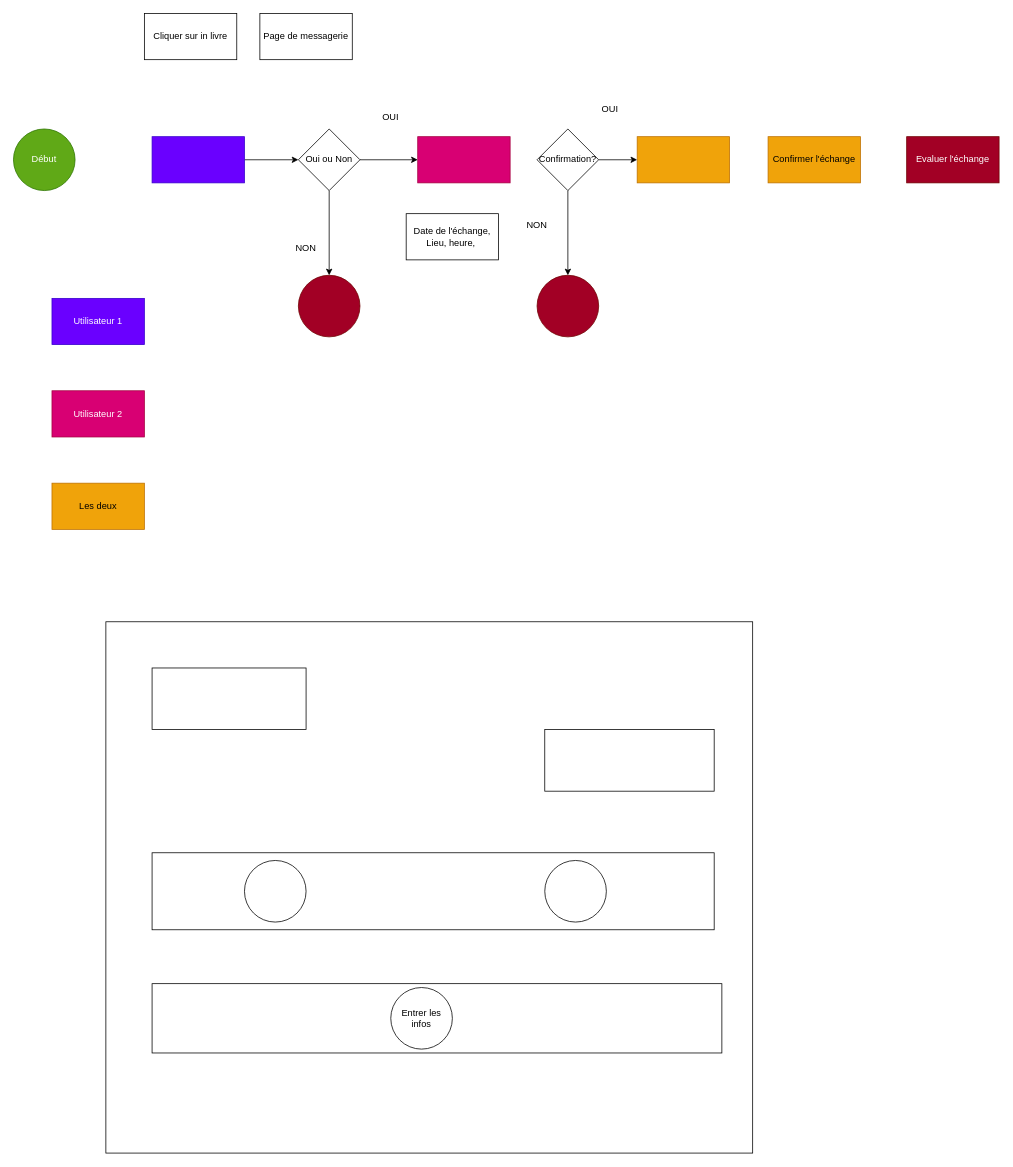
The diagram is 1013 pixels wide and 1167 high, and some of its shapes have lost their labels. Here are the shapes that lost their labels. From the top down, the centre of each, then its label:
[197,159]: Message 1 Je suis interessé
[463,159]: Partage des informations d'échange
[683,159]: Notifier à l"utilisateur
